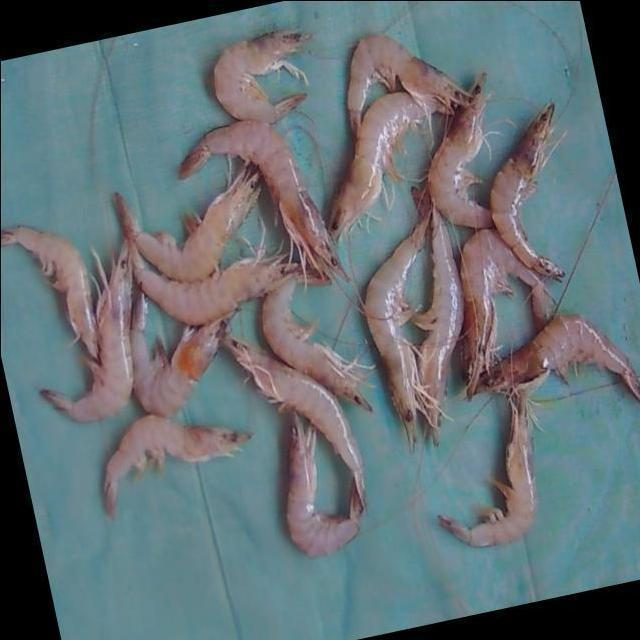shrimp: (178, 119, 346, 277), (225, 338, 365, 513), (329, 91, 451, 237), (114, 162, 260, 282), (40, 243, 133, 423), (438, 385, 537, 547), (261, 270, 373, 410), (364, 214, 430, 448), (103, 414, 250, 519), (460, 228, 551, 397), (478, 314, 640, 401), (131, 245, 295, 326), (490, 102, 564, 279), (412, 207, 464, 454), (0, 225, 97, 357), (347, 33, 469, 133), (129, 291, 225, 417), (286, 412, 361, 557), (428, 72, 494, 229), (213, 29, 310, 122)
